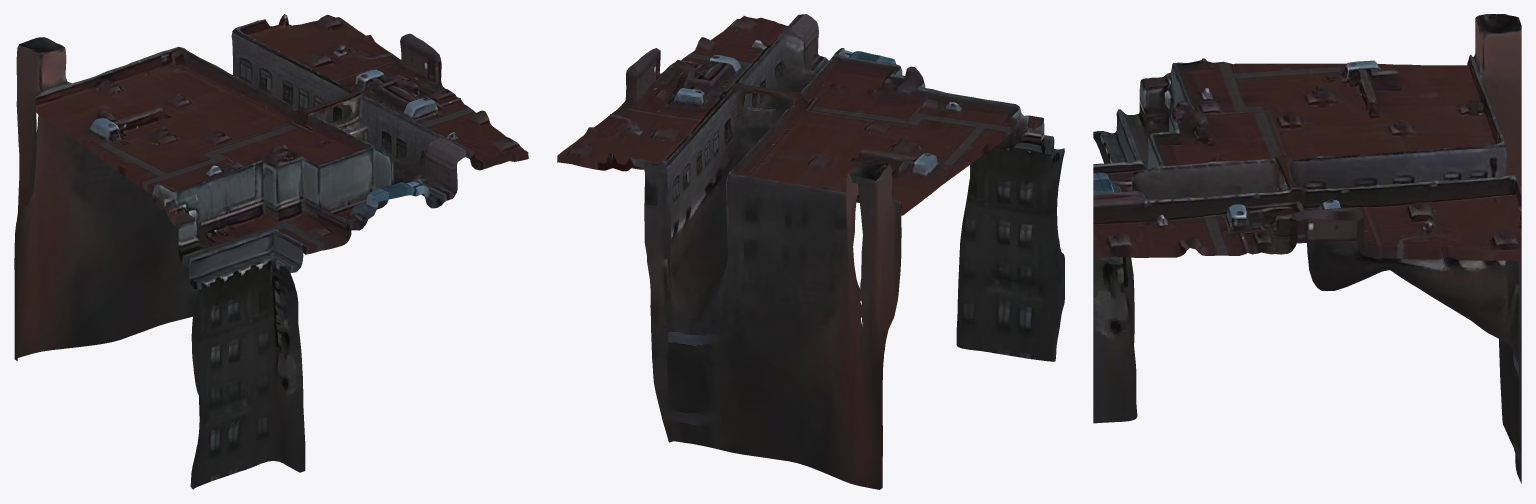
The model's file is z20-167746-405248-h1-yup-uvflip-v3-world.glb.
The picture shows the model from 3 angles, left to right: view 1: azimuth 30°, elevation 25°; view 2: azimuth 150°, elevation 25°; view 3: azimuth 270°, elevation 25°; orthographic projection. The views are drawn at different scales.
Size of the model in its own units: 30.24 by 28.32 by 30.32.
1 material, 1 textured.
